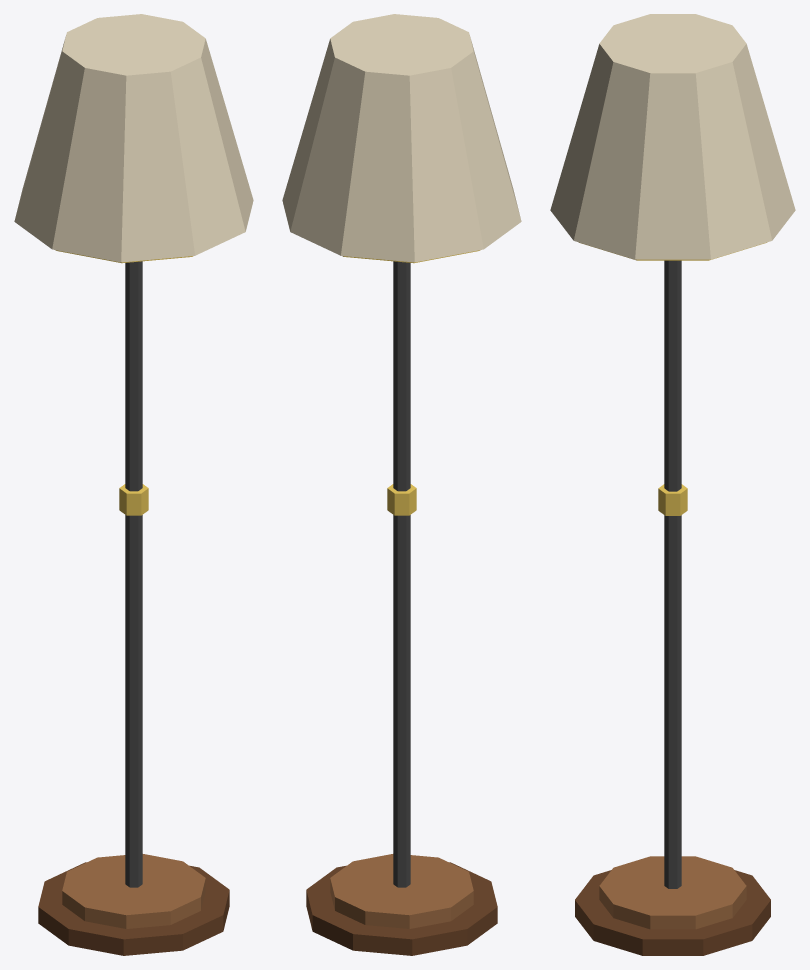
The model's file is floor_lamp.glb.
3 renders of one model, left to right at view 1: azimuth 30°, elevation 25°; view 2: azimuth 150°, elevation 25°; view 3: azimuth 270°, elevation 25°, orthographic.
Parts seen in each view (by area): view 1: floor_lamp; view 2: floor_lamp; view 3: floor_lamp.
Boxes of the visible parts, x1=… form: floor_lamp: x1=14, y1=14, x2=253, y2=955; floor_lamp: x1=282, y1=14, x2=521, y2=955; floor_lamp: x1=550, y1=14, x2=795, y2=955.
Size of the model in its own units: 0.3804 by 1.57 by 0.4.
1 material, 1 textured.
